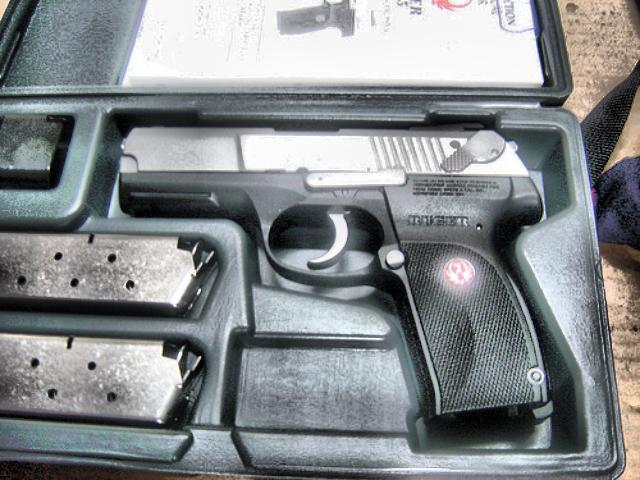pistol: (119, 115, 556, 424)
